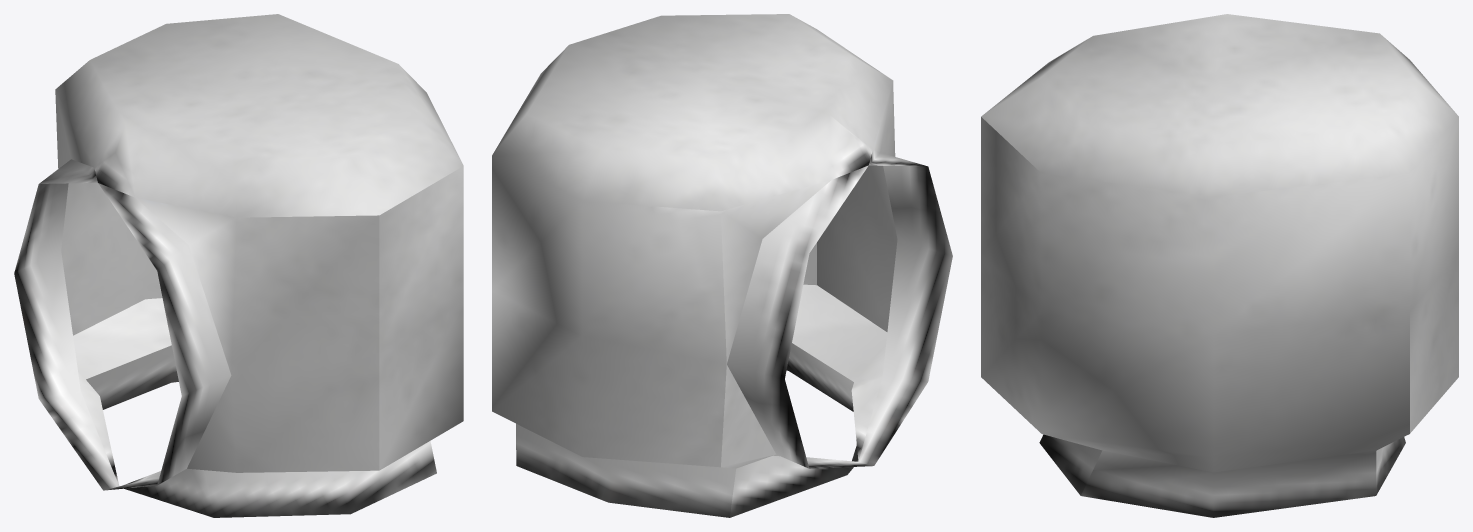
File: little_arm_link_8.dae
3 renders of one model, left to right at view 1: azimuth 30°, elevation 25°; view 2: azimuth 150°, elevation 25°; view 3: azimuth 270°, elevation 25°, orthographic. The views are drawn at different scales.
Parts seen in each view (by area): view 1: Little_Arm_8; view 2: Little_Arm_8; view 3: Little_Arm_8.
Part boxes in pixels (x1=…): Little_Arm_8: x1=14, y1=14, x2=463, y2=517; Little_Arm_8: x1=492, y1=14, x2=952, y2=517; Little_Arm_8: x1=981, y1=14, x2=1458, y2=517.
Size of the model in its own units: 0.2061 by 0.2548 by 0.2133.
Materials: 1 (1 with a texture image).
